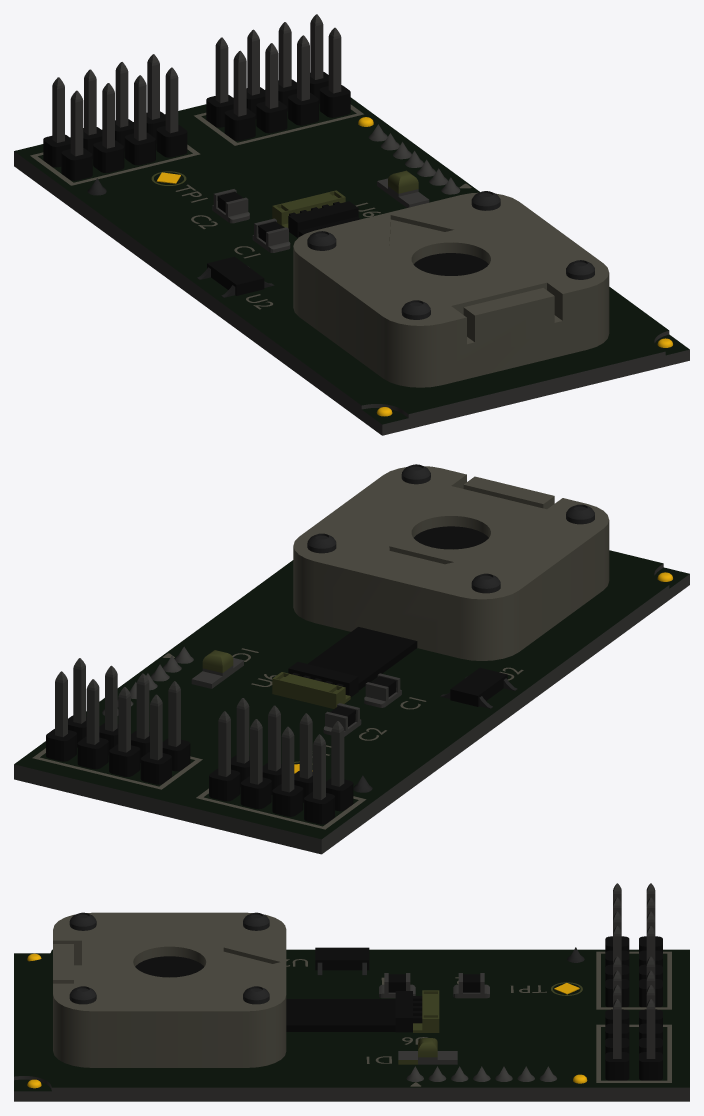
File: BMV080.obj
3 views of the same model, one above another, from view 1: azimuth 30°, elevation 25°; view 2: azimuth 150°, elevation 25°; view 3: azimuth 270°, elevation 25° (orthographic). The views are drawn at different scales.
Parts seen in each view (by area): view 1: Text.010; view 2: Text.010; view 3: Text.010.
Part boxes in pixels (x1,y1,x2,y2): Text.010: (14, 14, 689, 435); Text.010: (14, 464, 689, 854); Text.010: (14, 883, 689, 1101).
Bounding box in the file's own units: 1.05 × 0.3207 × 2.17.
